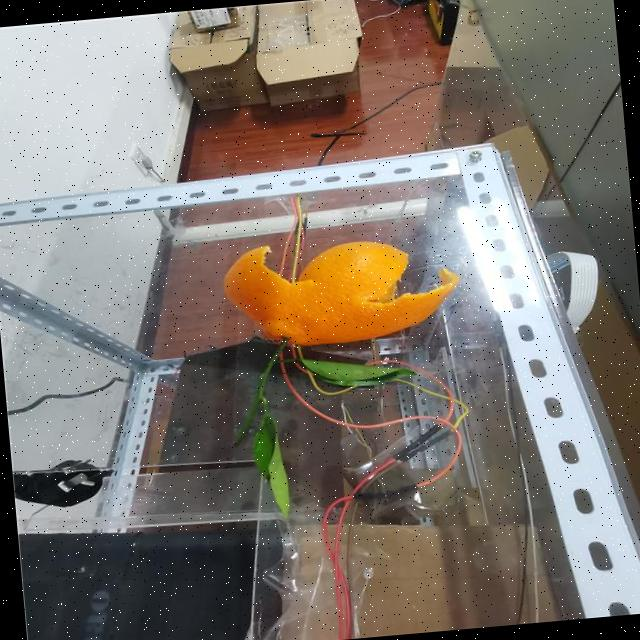orange-peel: (218, 226, 464, 354)
